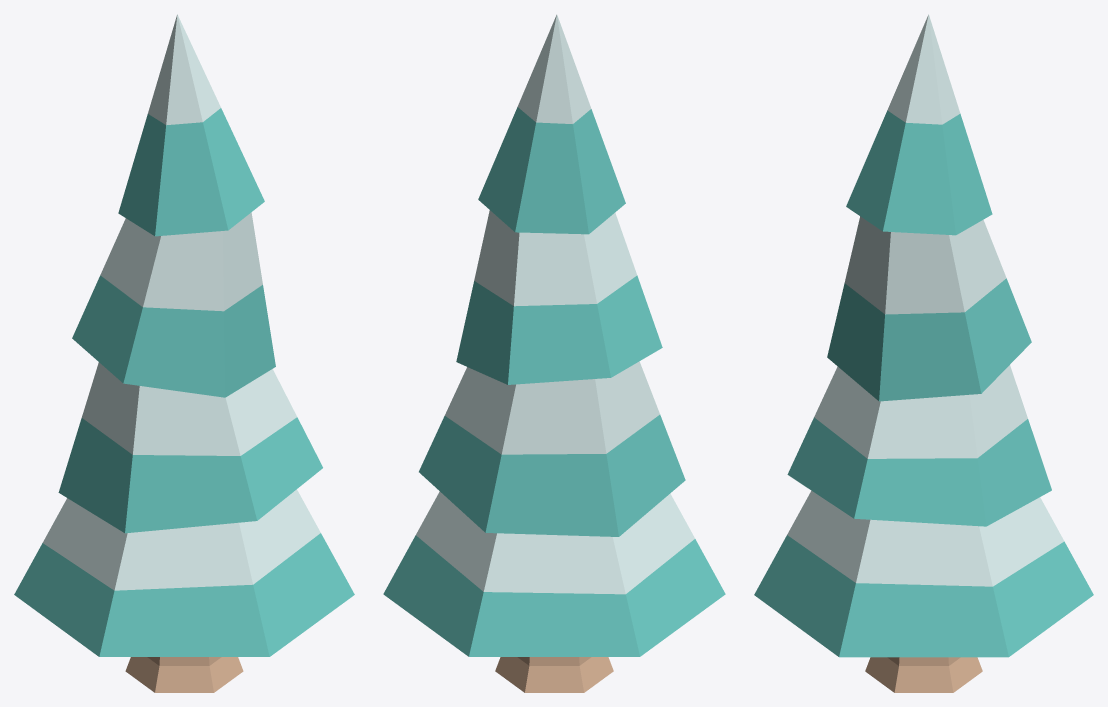
The model's file is treePineSnow.glb.
3 views of the same model, side by side, from view 1: azimuth 30°, elevation 25°; view 2: azimuth 150°, elevation 25°; view 3: azimuth 270°, elevation 25° (orthographic).
Parts seen in each view (by area): view 1: treePineSnow(Clone); view 2: treePineSnow(Clone); view 3: treePineSnow(Clone).
Part boxes in pixels (x1,y1,x2,y2): treePineSnow(Clone): (14, 14, 354, 692); treePineSnow(Clone): (383, 14, 725, 692); treePineSnow(Clone): (754, 14, 1093, 692).
Bounding box in the file's own units: 0.651 × 1.6 × 0.7517.
